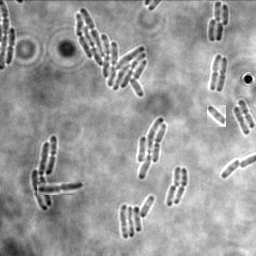Dividing: (37, 182, 84, 195), (175, 167, 189, 204), (238, 99, 255, 128), (209, 54, 222, 90), (217, 56, 228, 92), (7, 27, 17, 64)
Microcolony: (76, 7, 147, 98), (137, 117, 168, 180), (32, 135, 57, 211), (120, 195, 155, 238), (208, 1, 229, 42)
Rod: (233, 106, 251, 135), (207, 105, 226, 127), (222, 157, 240, 178), (167, 184, 177, 206), (174, 166, 183, 187)
